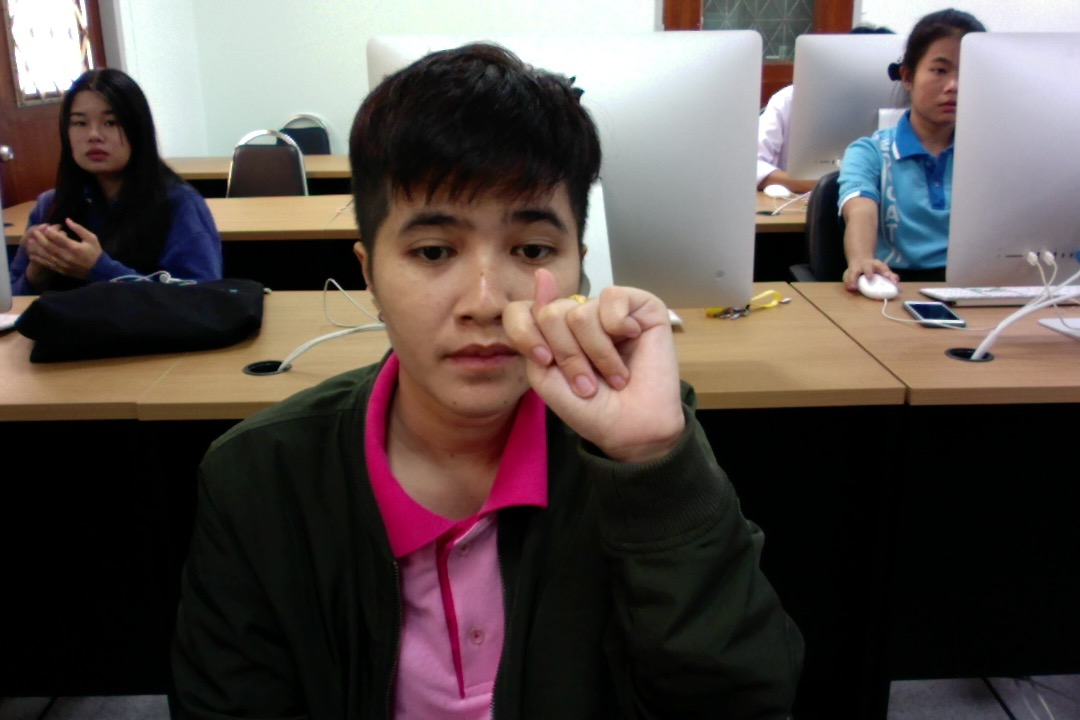tor: (492, 262, 706, 466)
